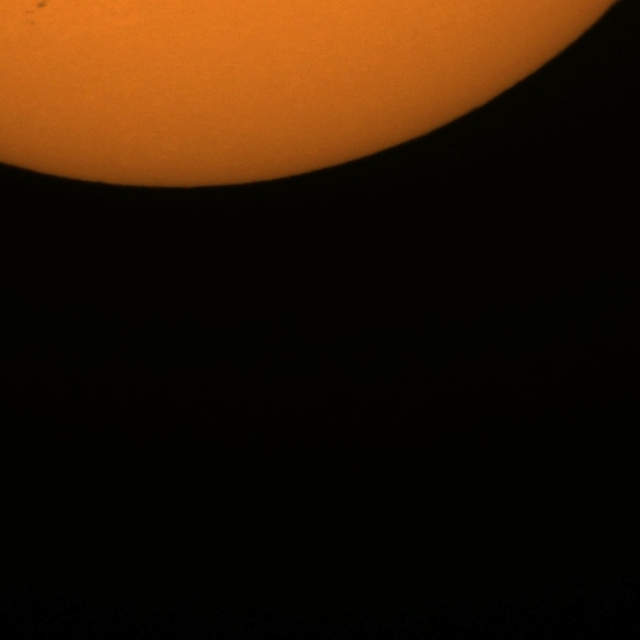sunspot: (23, 0, 48, 23), (34, 0, 48, 13)
